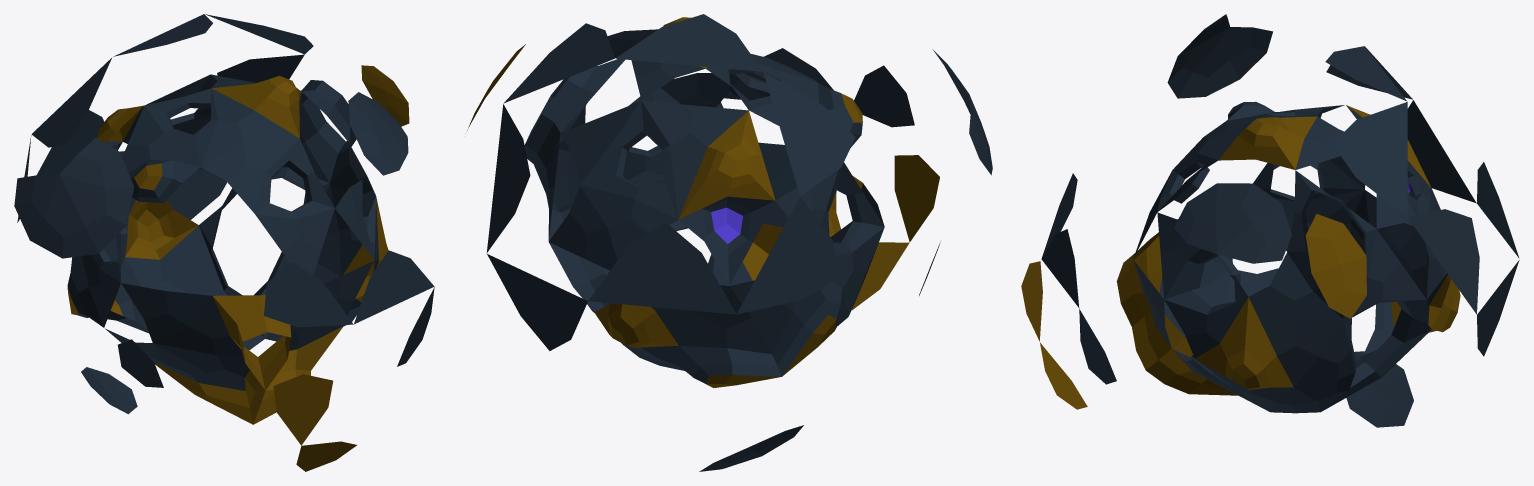
The model's file is Planet3Dest5.glb.
3 renders of one model, left to right at view 1: azimuth 30°, elevation 25°; view 2: azimuth 150°, elevation 25°; view 3: azimuth 270°, elevation 25°, orthographic. The views are drawn at different scales.
Parts seen in each view (by area): view 1: Icosphere.076; view 2: Icosphere.076; view 3: Icosphere.076.
Boxes of the visible parts, x1,y1,x2,y2 form: Icosphere.076: (14, 14, 434, 471); Icosphere.076: (467, 14, 992, 471); Icosphere.076: (1021, 14, 1519, 427).
Bounding box in the file's own units: 2.87 × 2.46 × 2.87.
